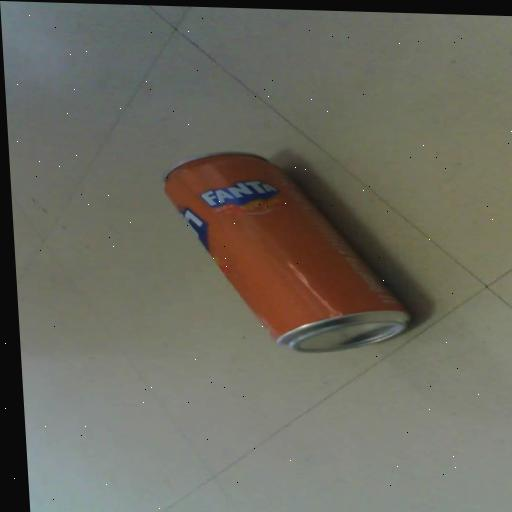canned: (144, 135, 426, 378)
